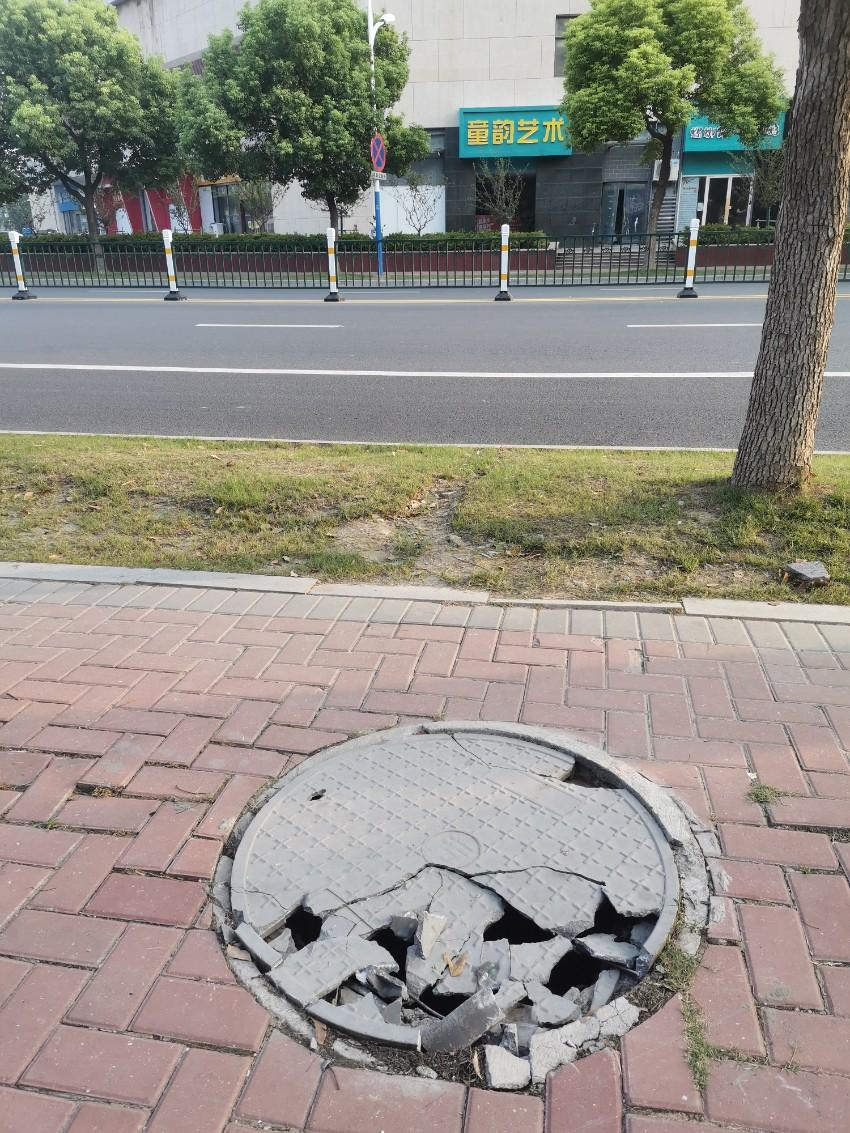wellcover: (155, 687, 759, 1091)
